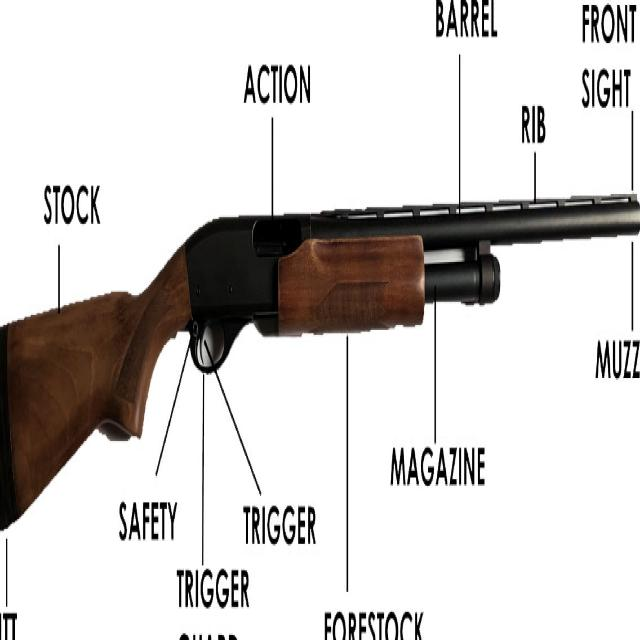Weapon: (0, 194, 639, 529)
